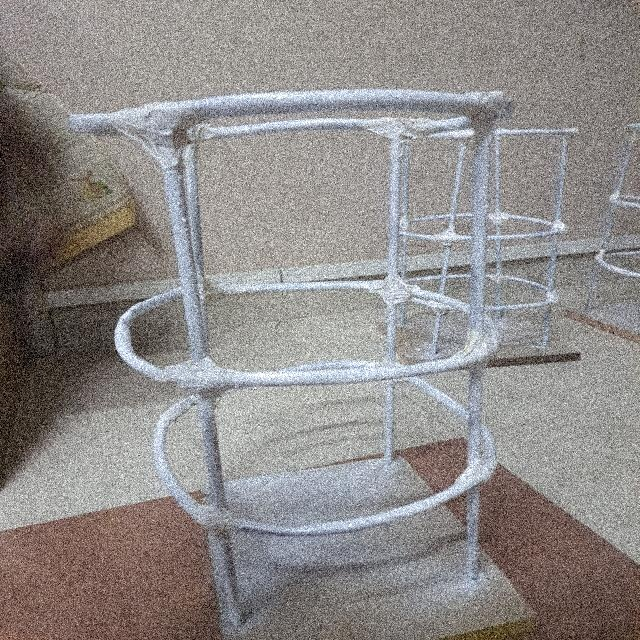silo: (67, 85, 545, 638), (385, 109, 591, 364), (579, 102, 640, 340)
